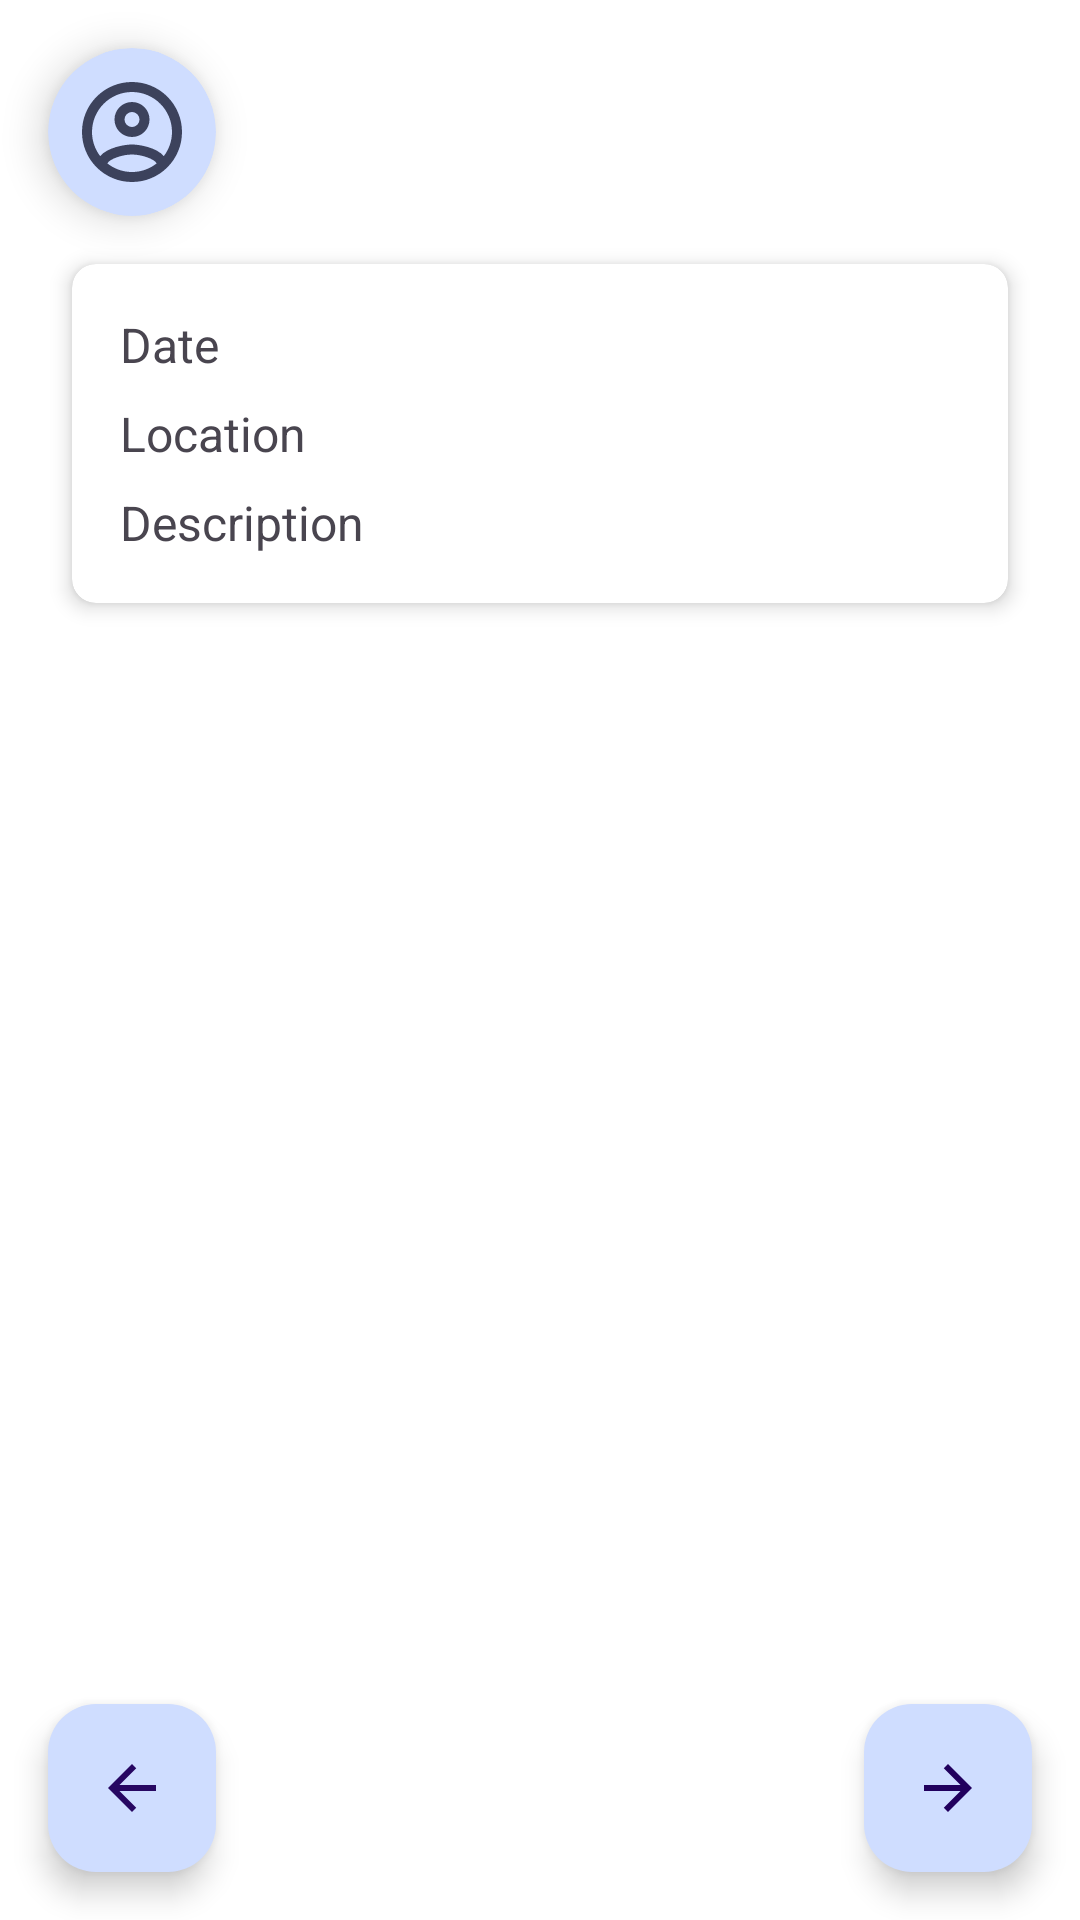

Icon bounding boxes for this 1080x1920 phone screenshot, format (x1, y1, x2, y2):
arrow back: (48, 1704, 216, 1872)
arrow forward: (864, 1704, 1032, 1872)
Profile photo: (48, 48, 216, 216)
